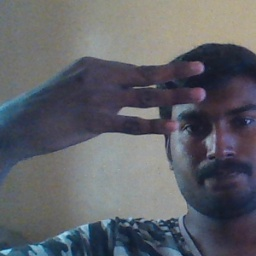K: (30, 55, 206, 145)
